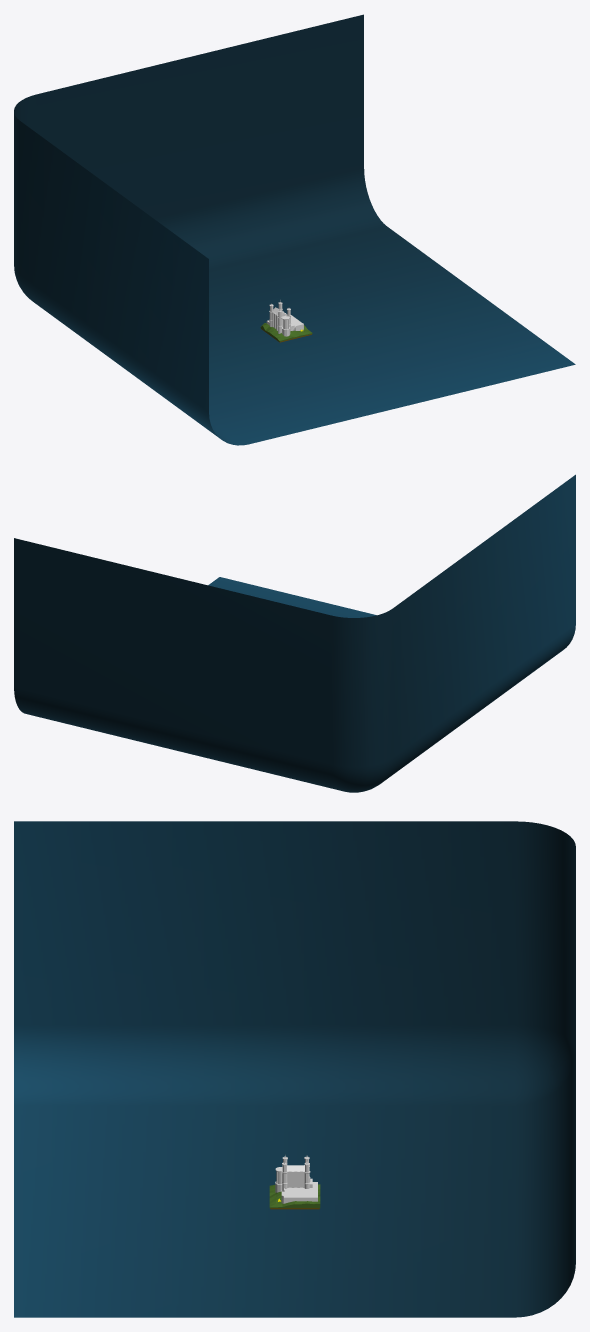
File: fourviere.glb
3 views of the same model, one above another, from view 1: azimuth 30°, elevation 25°; view 2: azimuth 150°, elevation 25°; view 3: azimuth 270°, elevation 25° (orthographic). The views are drawn at different scales.
Visible parts, largest first — view 1: Plane; view 2: Plane; view 3: Plane, Main Tower, Map.
Boxes of the visible parts, <box> form: Plane: <box>14,14,575,445</box>; Plane: <box>14,474,575,792</box>; Plane: <box>14,821,575,1317</box>; Main Tower: <box>275,1167,317,1203</box>; Map: <box>269,1184,320,1209</box>.
Size of the model in its own units: 136 by 69.7 by 136.
4 materials, 3 textured.
